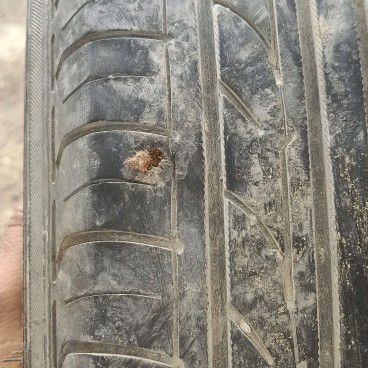tr: (112, 144, 187, 195)
